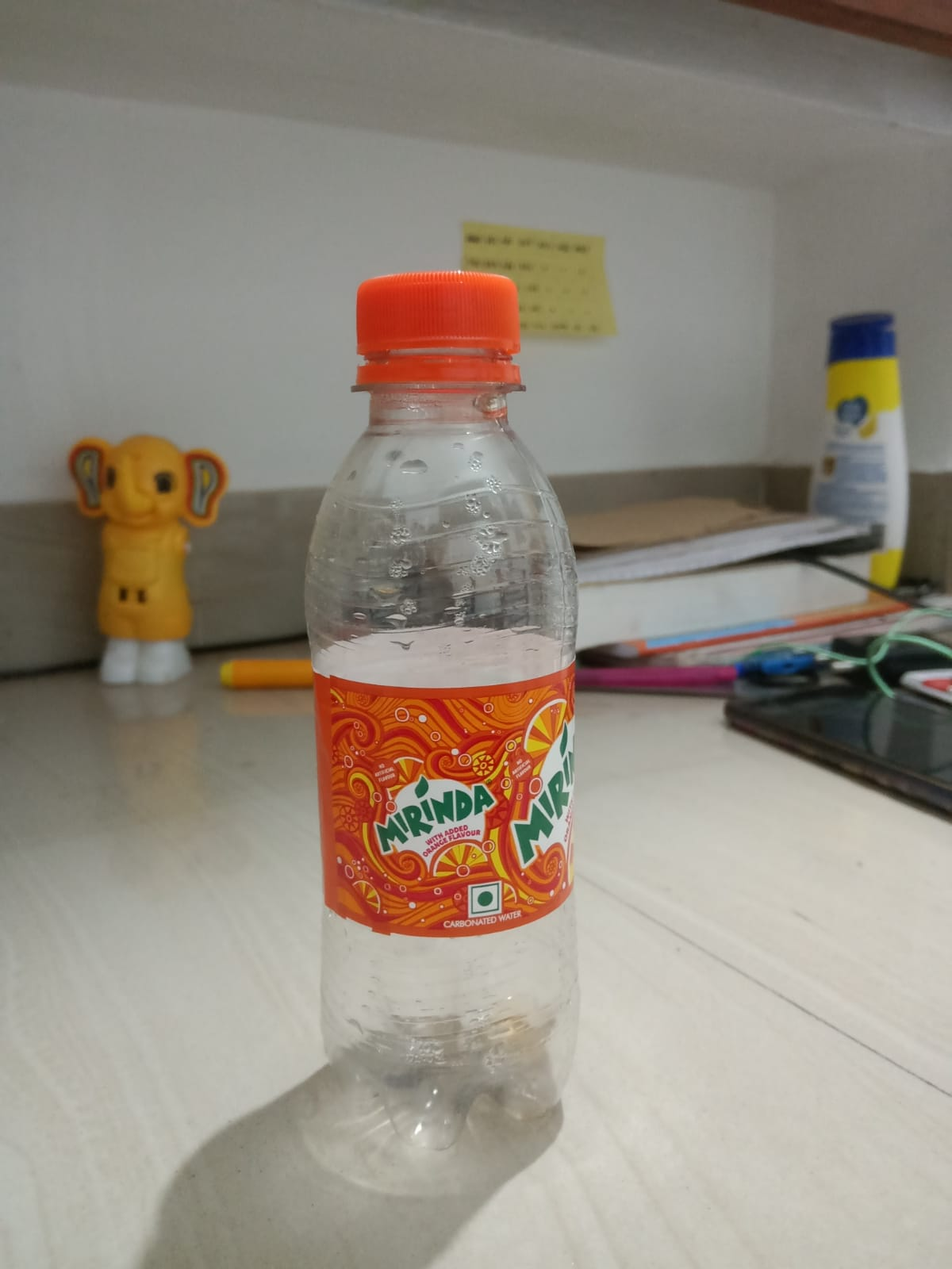plastic: (202, 220, 706, 1185)
